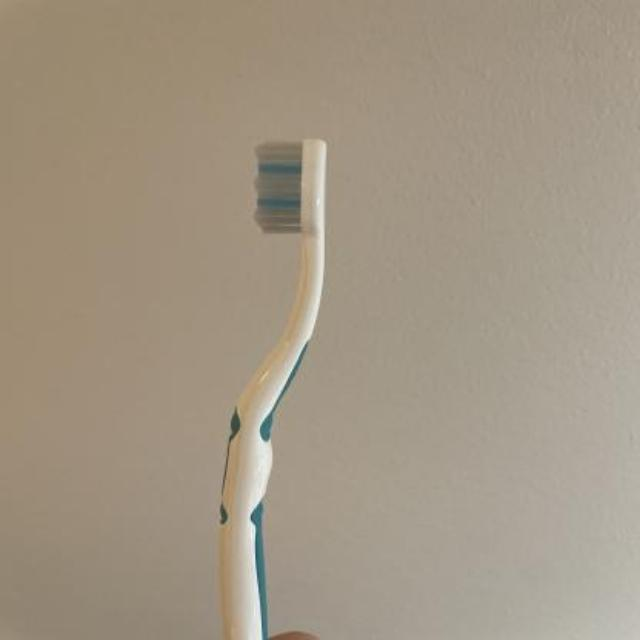toothbrush: (214, 126, 336, 640)
